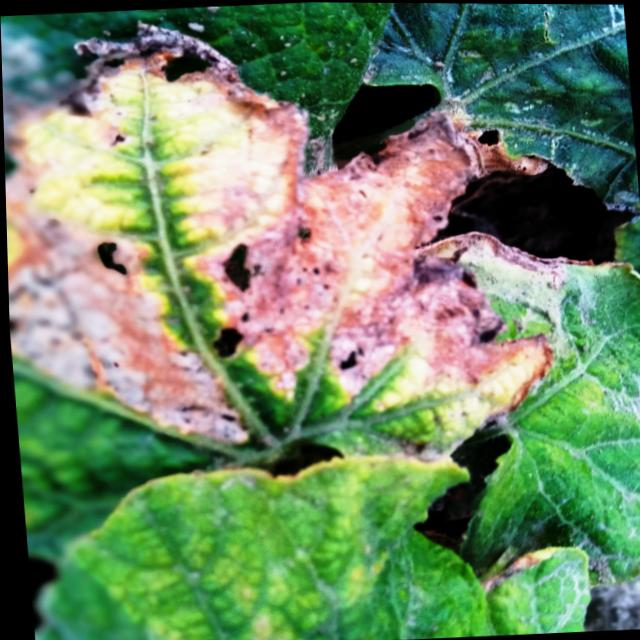Anthracnose: (407, 124, 638, 272), (327, 75, 449, 176), (218, 238, 262, 300), (207, 322, 251, 365), (158, 55, 215, 87), (96, 238, 131, 284), (334, 340, 370, 381)
